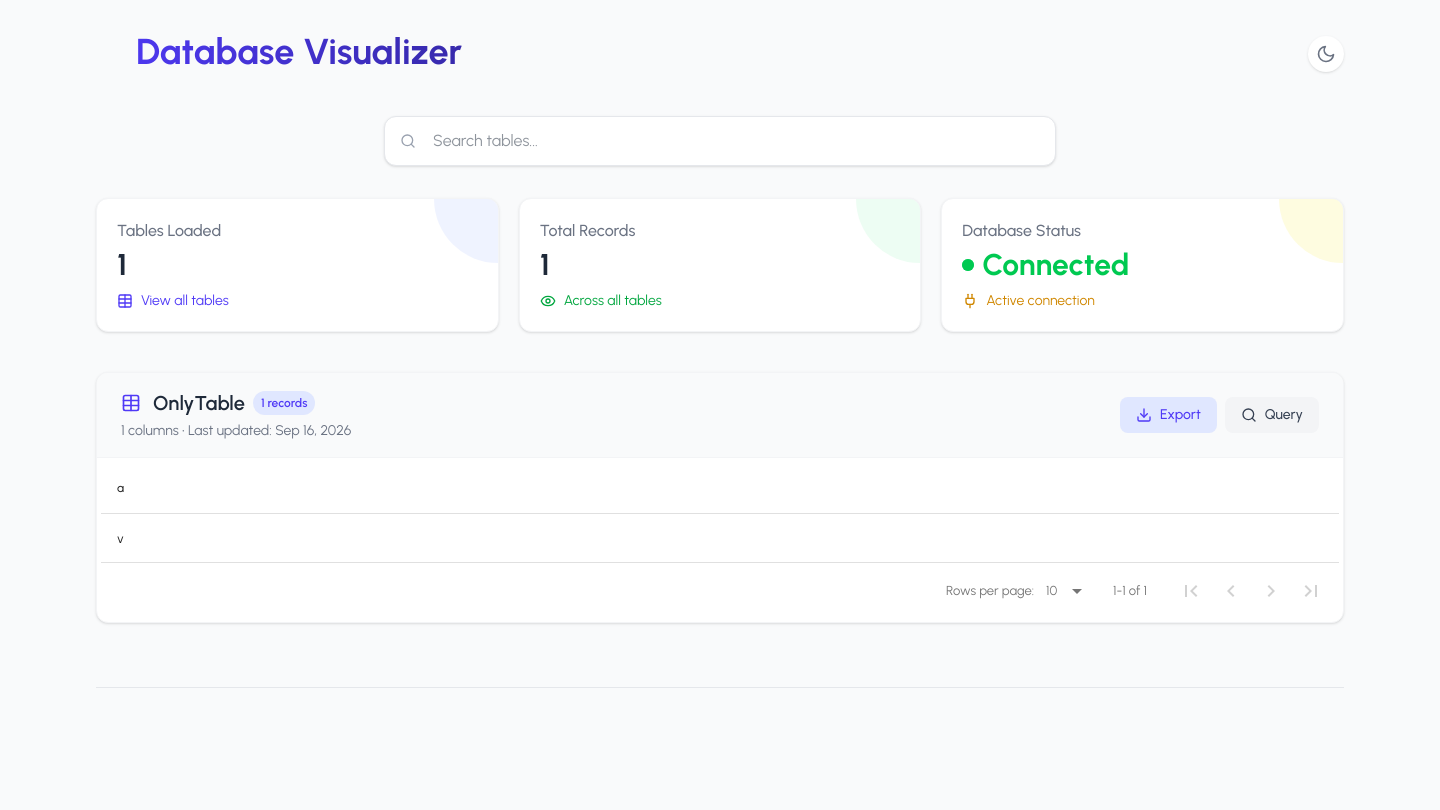
Test: DatabaseVisualizer › filters tables via search and shows no-results UI
Expected: the element with test id "datatable-0" is shown, [96, 372, 1344, 623]
# Type non-matching
In the field with placeholder "Search tables...": {"x": 720, "y": 141} [384, 116, 1056, 166], type "XYZ"
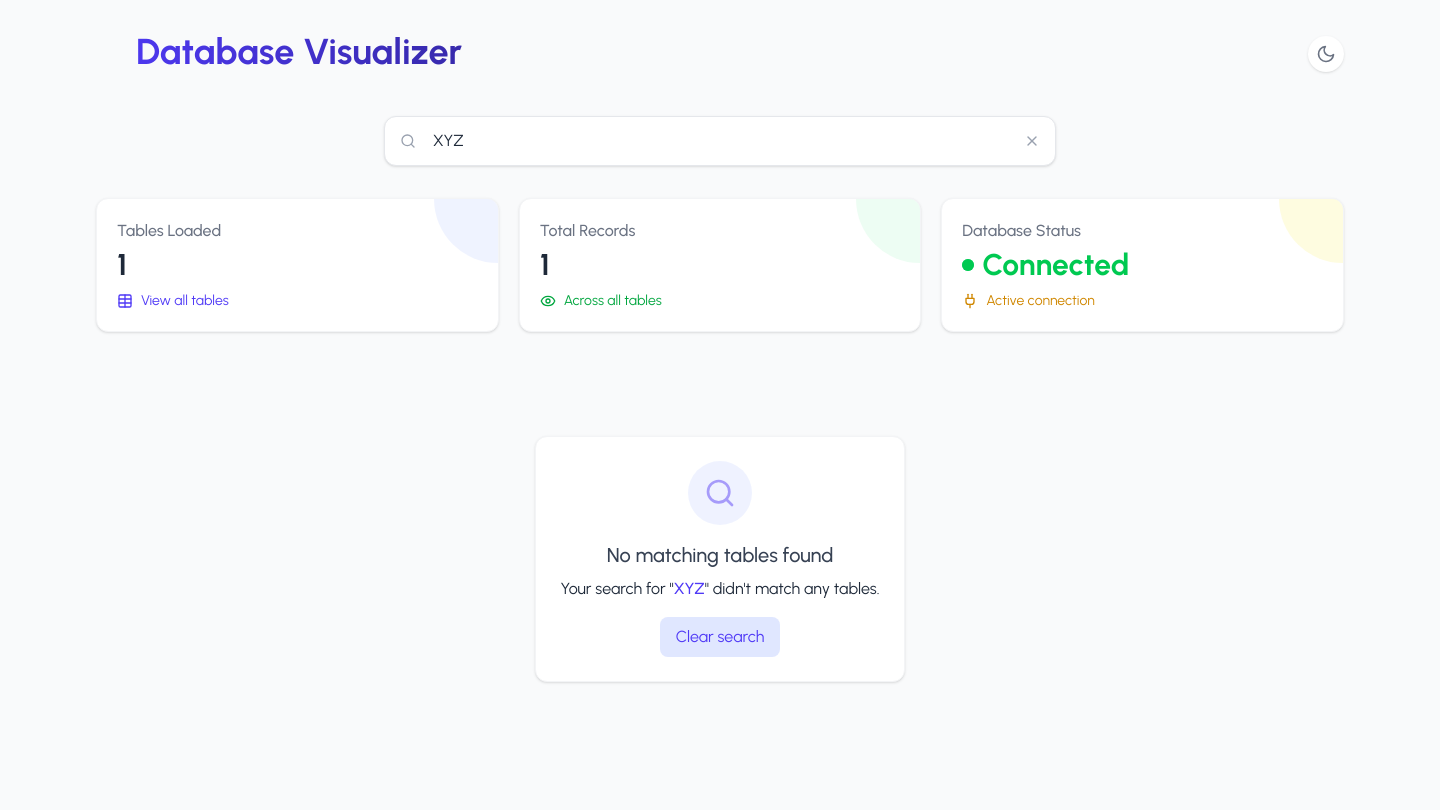
Result: the heading "No matching tables found" is shown at [607, 543, 833, 567]
